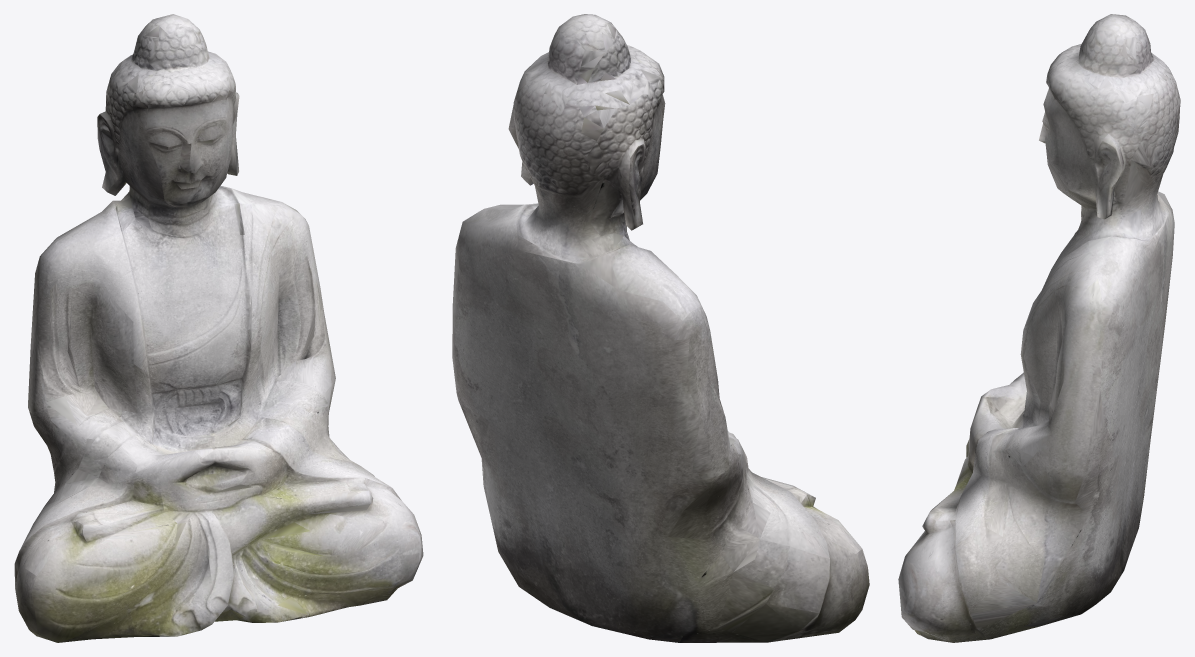
File: statue 3.glb
3 renders of one model, left to right at view 1: azimuth 30°, elevation 25°; view 2: azimuth 150°, elevation 25°; view 3: azimuth 270°, elevation 25°, orthographic. The views are drawn at different scales.
Visible parts, largest first — view 1: Buddha Concrete Statue; view 2: Buddha Concrete Statue; view 3: Buddha Concrete Statue.
Boxes of the visible parts, bbox=[...] form: Buddha Concrete Statue: bbox=[14, 14, 423, 642]; Buddha Concrete Statue: bbox=[452, 14, 869, 642]; Buddha Concrete Statue: bbox=[898, 14, 1180, 642].
Size of the model in its own units: 2.28 by 3.29 by 1.51.
Materials: 2 (1 with a texture image).
